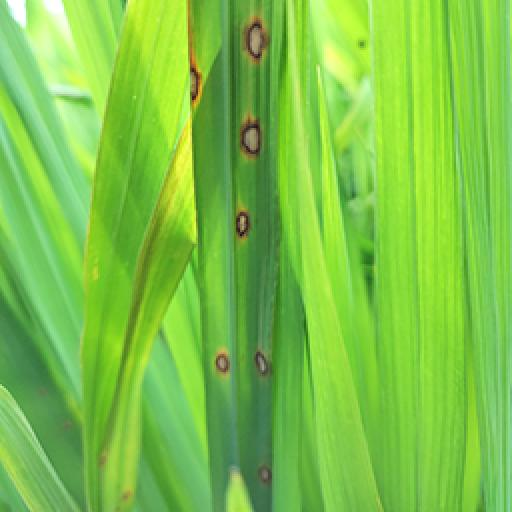Brown Spot: (182, 44, 208, 118), (236, 18, 272, 66), (236, 112, 268, 164), (228, 206, 262, 248), (248, 348, 278, 384), (210, 344, 234, 384), (252, 462, 274, 490)
